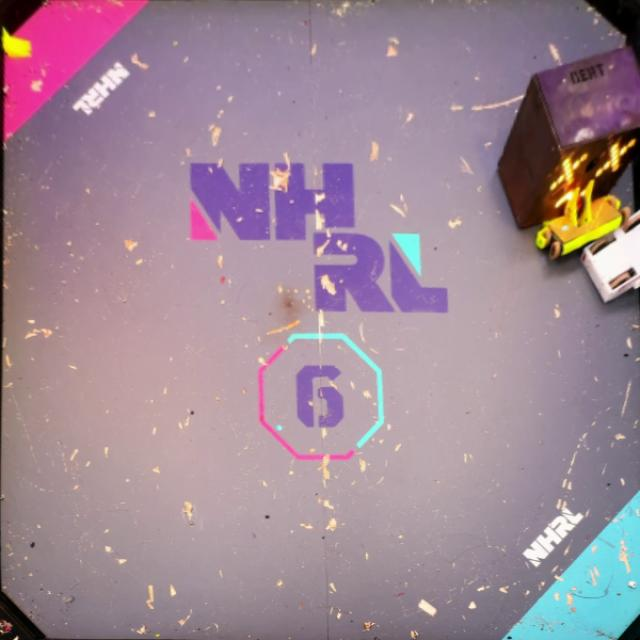housebot: (496, 43, 640, 230)
robot: (537, 178, 631, 259), (584, 208, 640, 305)
